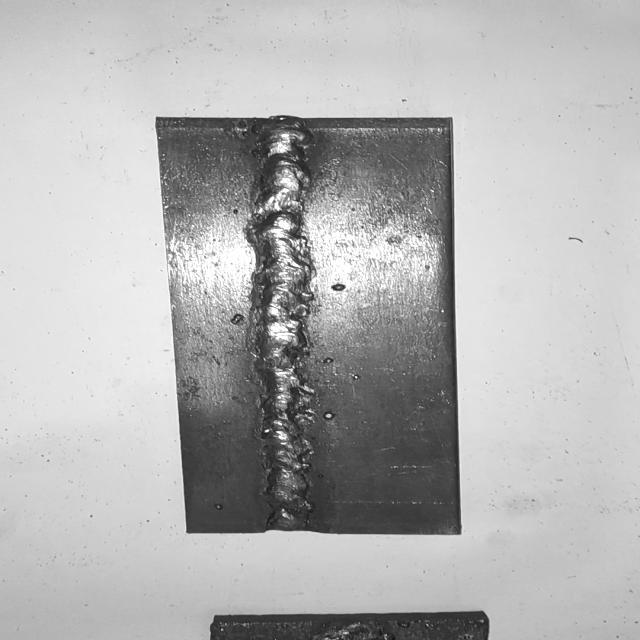Welding Line: (250, 121, 320, 526)
Workpiece: (152, 113, 468, 540)
